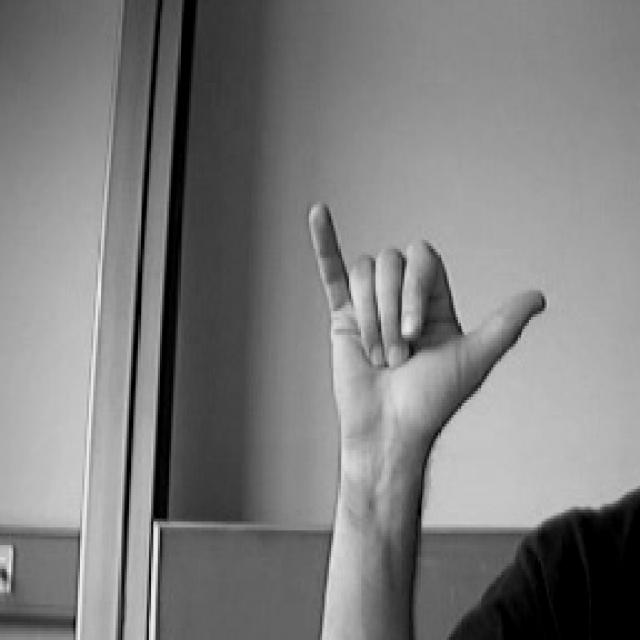Y: (286, 170, 559, 467)
